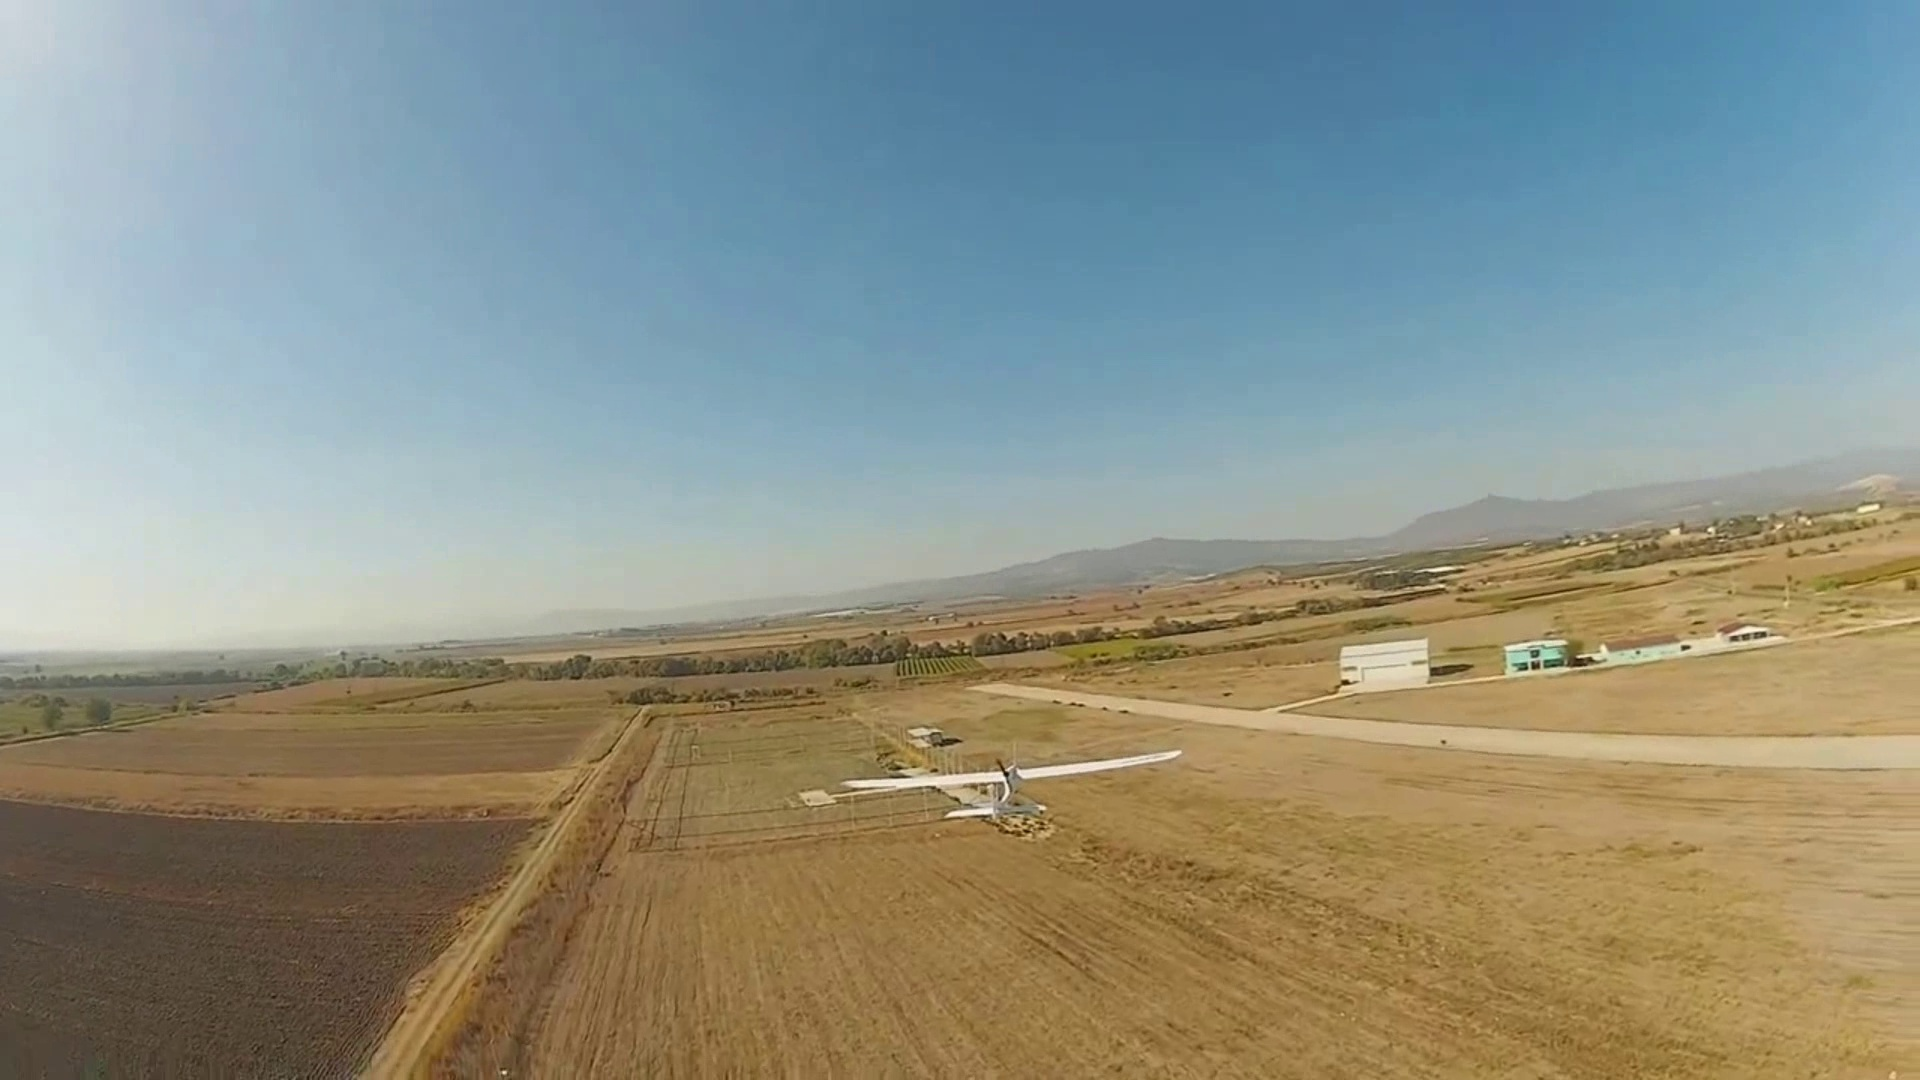airplane: (804, 733, 1185, 833)
